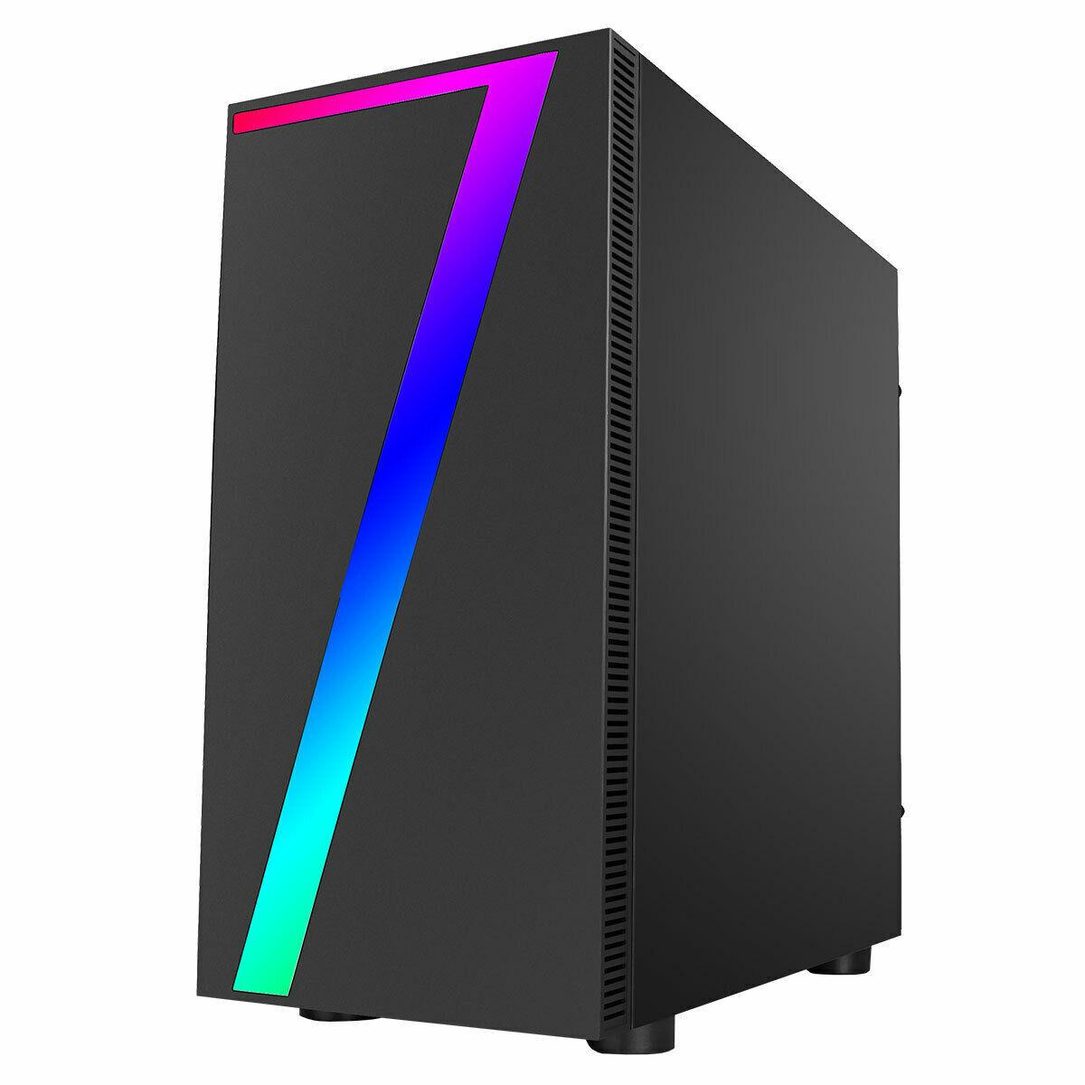DESKTOP PC: (190, 12, 907, 1051)
